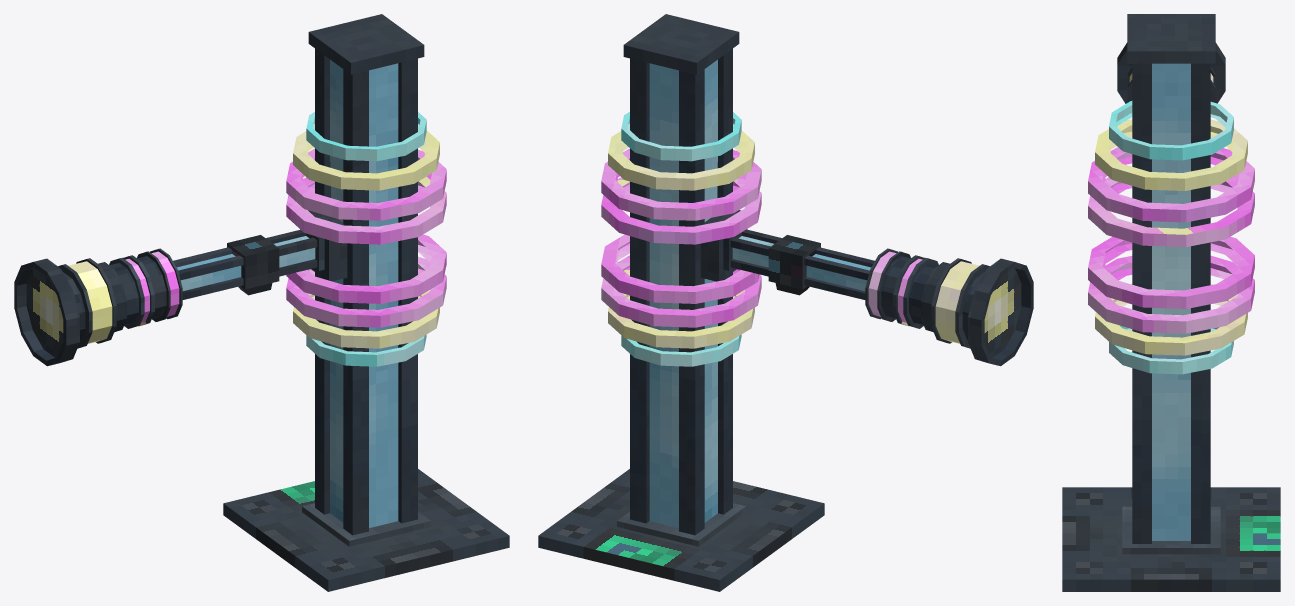
Rendered from Centinela.gltf.
3 renders of one model, left to right at view 1: azimuth 30°, elevation 25°; view 2: azimuth 150°, elevation 25°; view 3: azimuth 270°, elevation 25°, orthographic. The views are drawn at different scales.
Parts seen in each view (by area): view 1: Base, Rings (×9), Arm, Glass (×2); view 2: Base, Rings (×9), Arm, Glass (×2); view 3: Base, Rings (×8), Glass, Arm.
Part boxes in pixels (left/top/right/bottom): Base: left=223, top=14, right=509, bottom=591; Rings (×9): left=68, top=112, right=446, bottom=366; Arm: left=14, top=210, right=347, bottom=366; Glass (×2): left=176, top=59, right=398, bottom=527; Base: left=538, top=14, right=824, bottom=591; Rings (×9): left=601, top=112, right=979, bottom=366; Arm: left=700, top=210, right=1033, bottom=366; Glass (×2): left=649, top=59, right=871, bottom=527; Base: left=1062, top=14, right=1280, bottom=591; Rings (×8): left=1088, top=101, right=1254, bottom=374; Glass: left=1152, top=63, right=1190, bottom=540; Arm: left=1117, top=42, right=1225, bottom=103.
Bounding box in the file's own units: 2.3 × 2.59 × 1.
4 materials, 4 textured.
